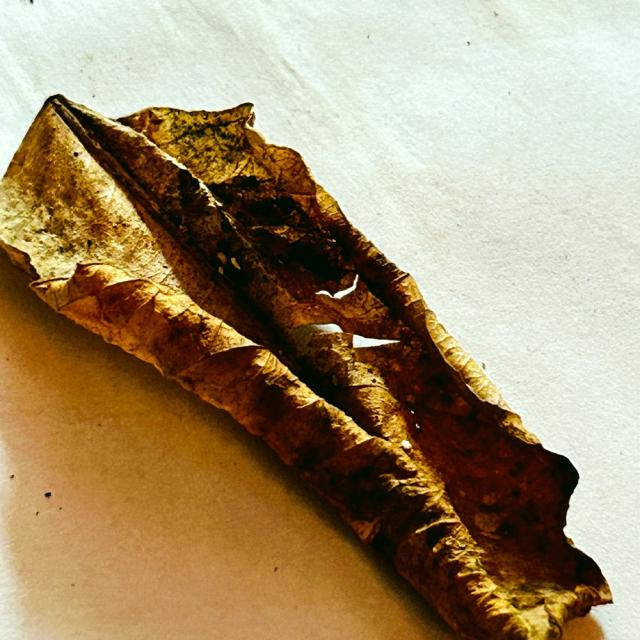DryLeaf_Lemon: (0, 95, 611, 639)
